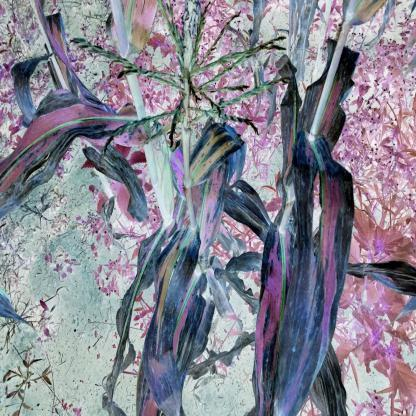Corn leaf blight: (272, 121, 356, 416), (0, 87, 143, 213), (96, 216, 172, 416), (138, 229, 206, 416), (190, 121, 245, 251)
